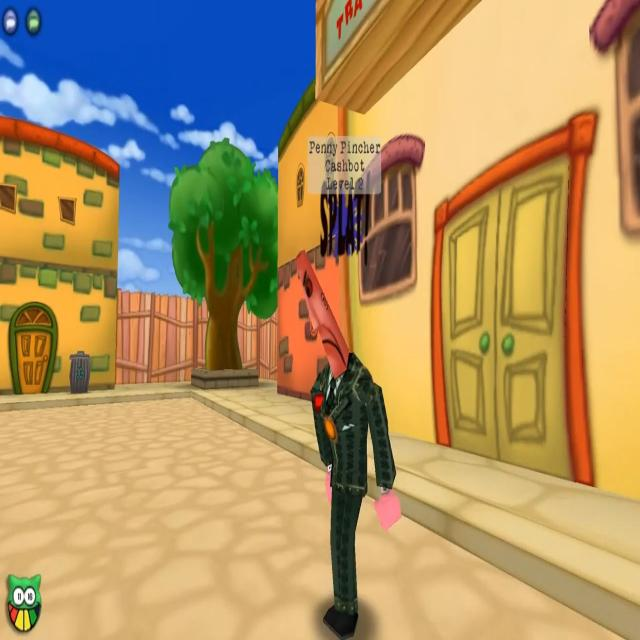pennypincher: (304, 265, 399, 640)
